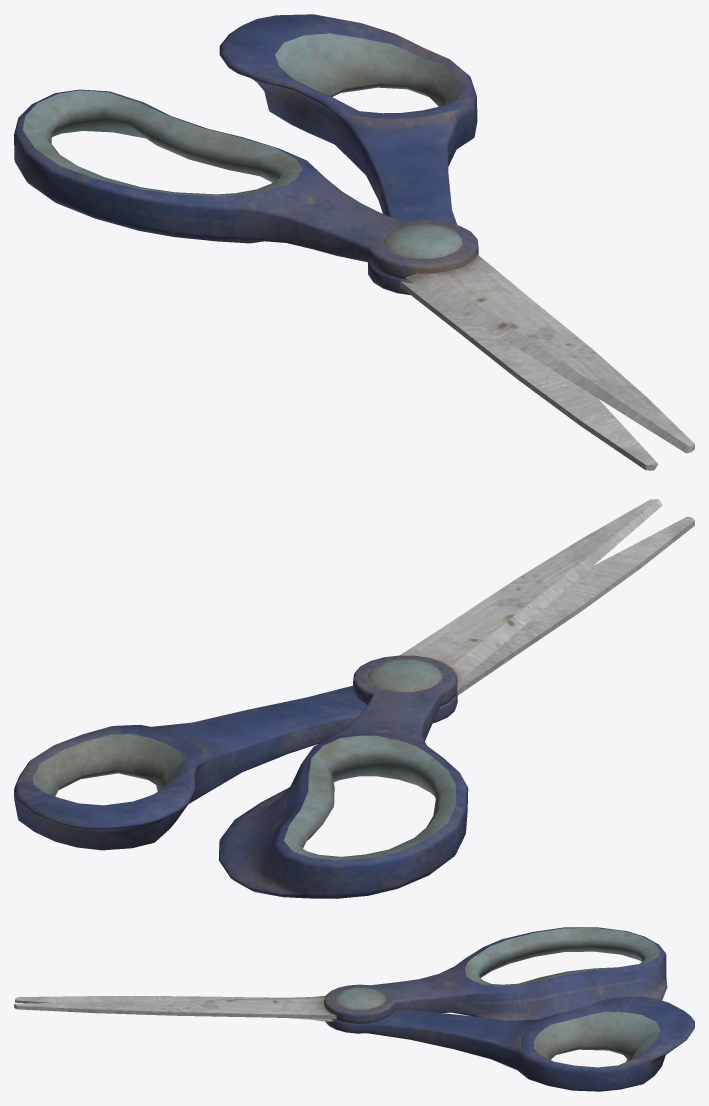
The model's file is scissors.FBX.
3 renders of one model, top to bottom at view 1: azimuth 30°, elevation 25°; view 2: azimuth 150°, elevation 25°; view 3: azimuth 270°, elevation 25°, orthographic. The views are drawn at different scales.
Visible parts, largest first — view 1: SM_Scissors; view 2: SM_Scissors; view 3: SM_Scissors.
Part boxes in pixels (x1,y1,x2,y2): SM_Scissors: (14,14,694,470); SM_Scissors: (14,499,694,898); SM_Scissors: (14,927,694,1091).
Size of the model in its own units: 10.65 by 1.56 by 22.7.
Materials: 1 (1 with a texture image).
